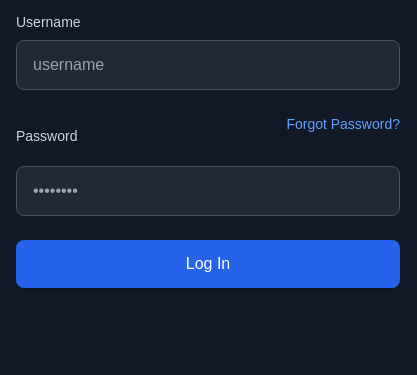
Scenario: LoginForm › displays error message on login failure
Step 1. Type "testuser" into the field labelled "Username" → (208, 65), box [16,40,400,90]
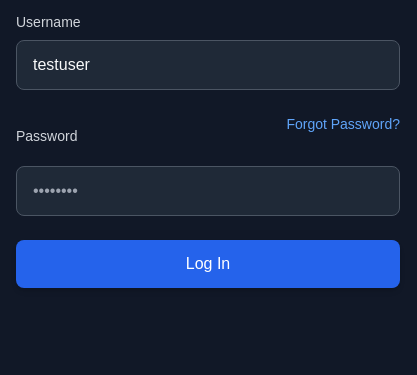
Step 2. Type "wrongpassword" into the password field labelled "Password" → (208, 191), box [16,166,400,216]
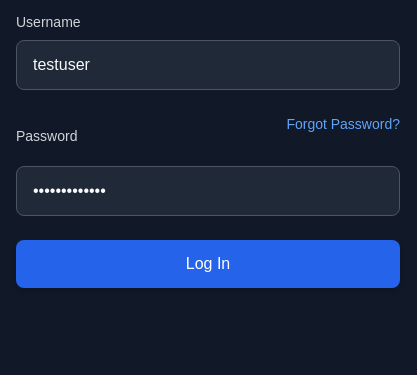
Step 3. Click the button "Log In" → (208, 264), box [16,240,400,288]
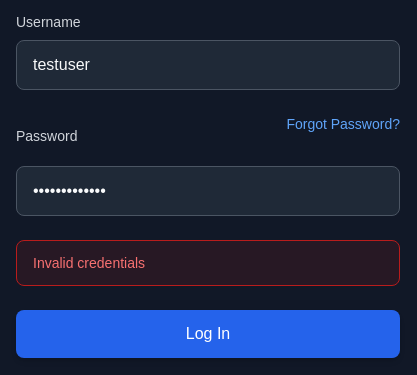
expect the text "Invalid credentials" is shown: met, box [16,240,400,286]
